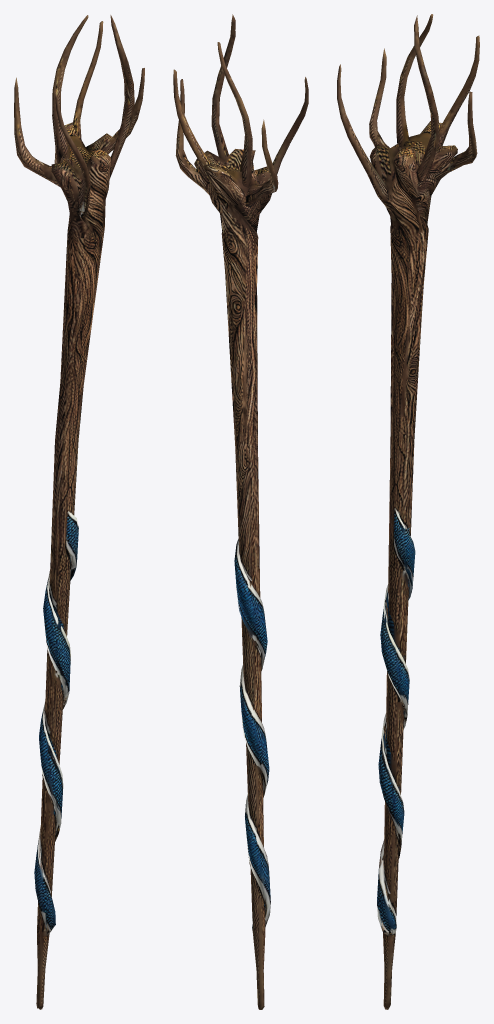
File: w_staff_grip_t2.glb
3 renders of one model, left to right at view 1: azimuth 30°, elevation 25°; view 2: azimuth 150°, elevation 25°; view 3: azimuth 330°, elevation 25°, orthographic. The views are drawn at different scales.
Parts seen in each view (by area): view 1: StaffNovice02:0; view 2: StaffNovice02:0; view 3: StaffNovice02:0.
Boxes of the visible parts, left/top/right/bottom form: StaffNovice02:0: left=14, top=15, right=144, bottom=1009; StaffNovice02:0: left=173, top=14, right=308, bottom=1009; StaffNovice02:0: left=337, top=14, right=479, bottom=1009.
Bounding box in the file's own units: 14.15 × 119 × 11.95.
Materials: 1 (1 with a texture image).
